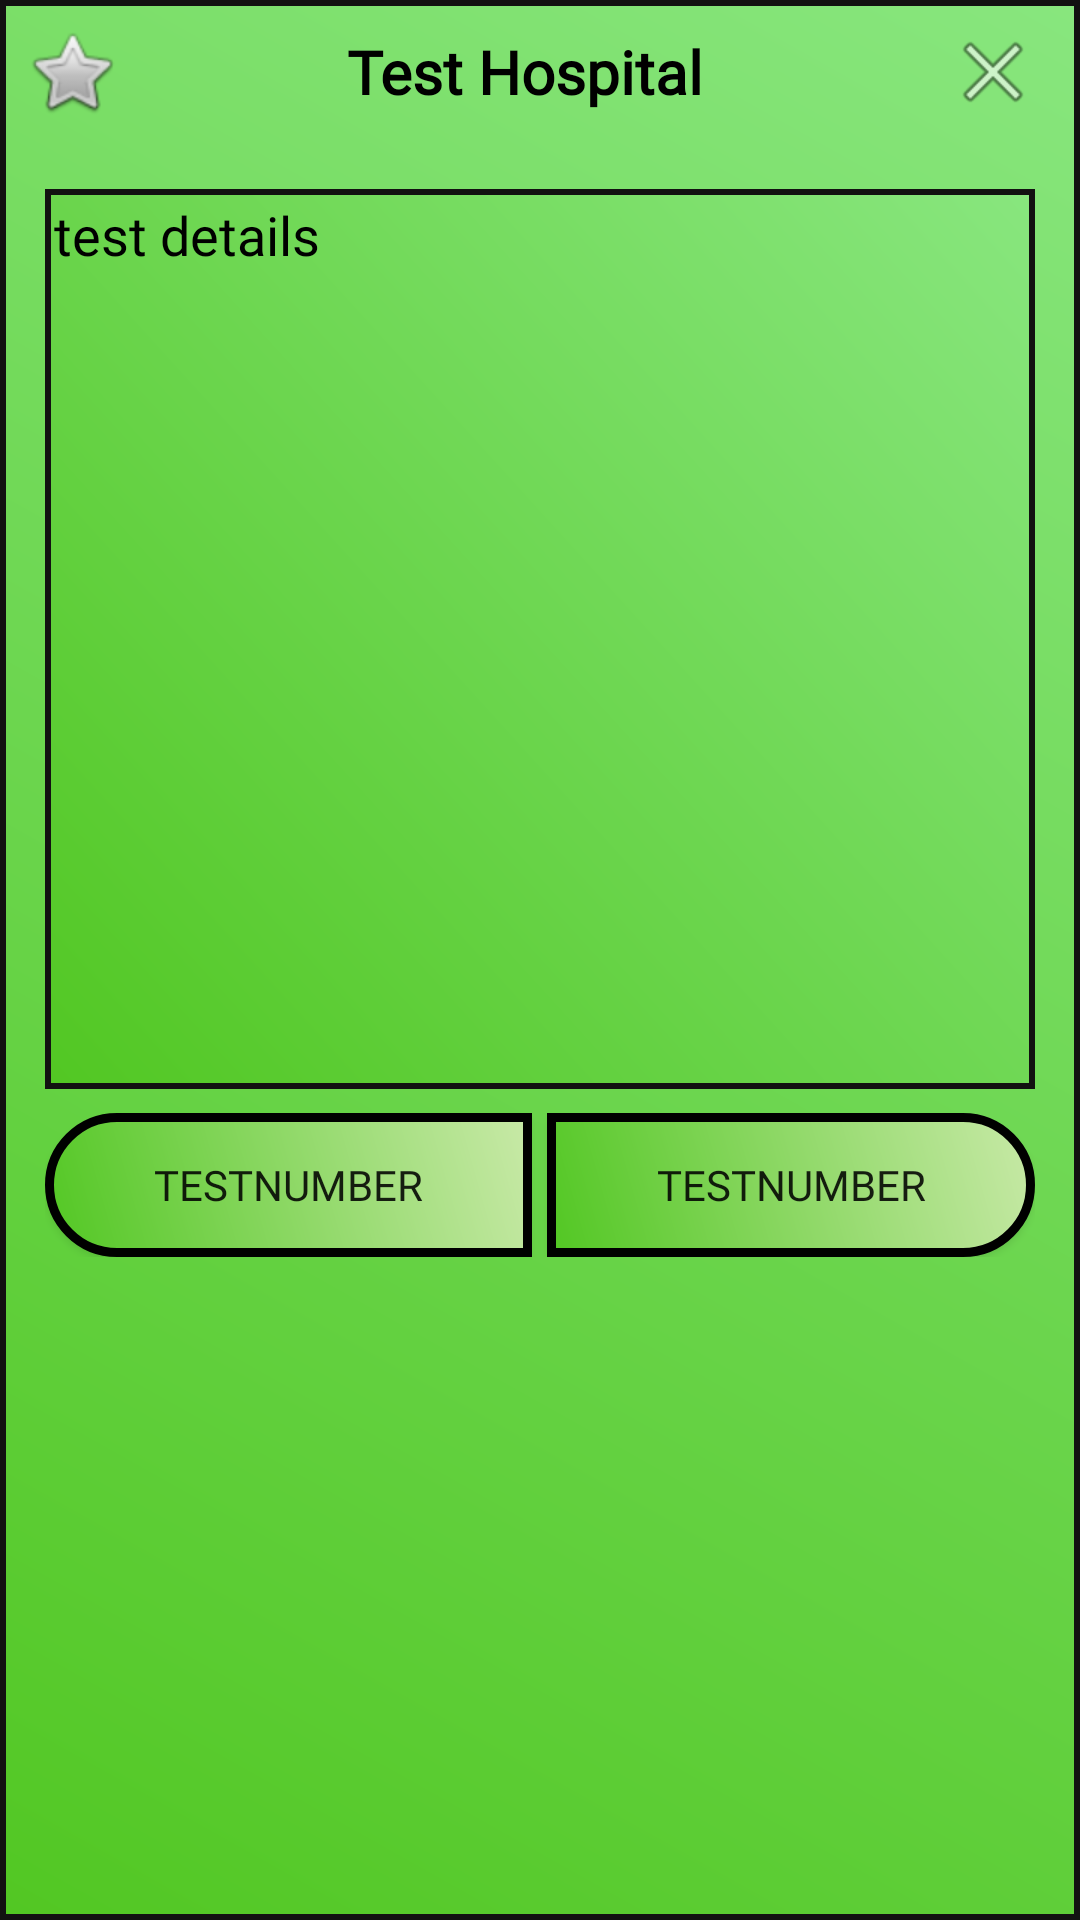

Where to tap for icons on this 1080x1920 app screen, as (x=x, y=y):
star off: (x=73, y=73)
